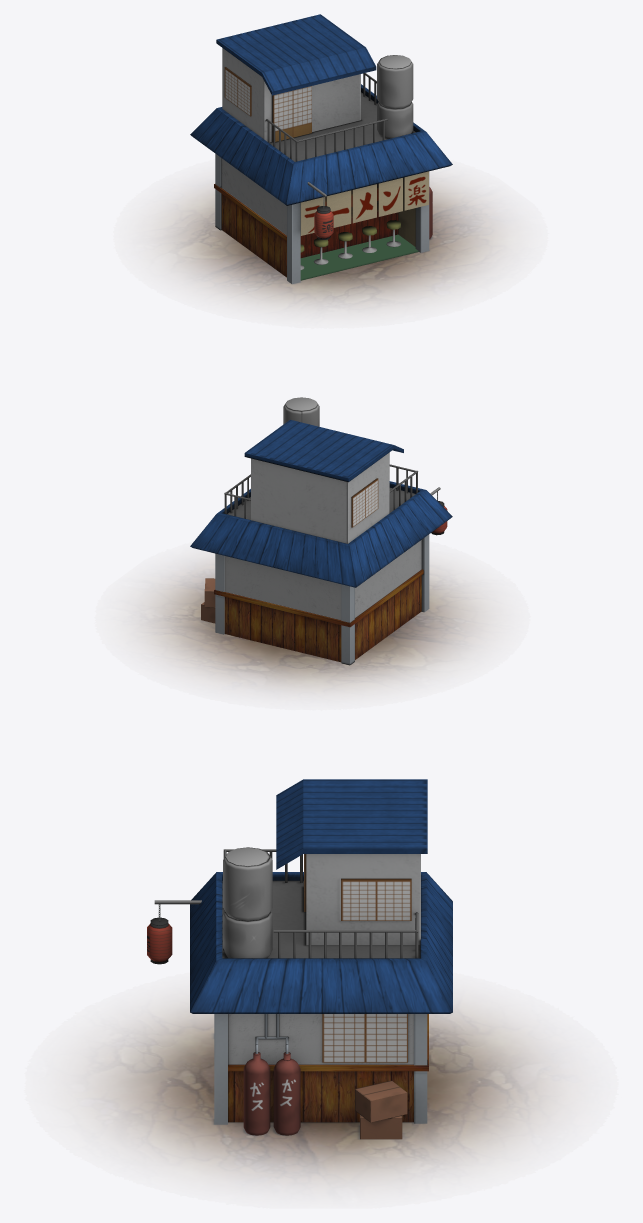
The model's file is naruto_ichiraku_ramen.glb.
3 views of the same model, one above another, from view 1: azimuth 30°, elevation 25°; view 2: azimuth 150°, elevation 25°; view 3: azimuth 270°, elevation 25° (orthographic). The views are drawn at different scales.
Parts seen in each view (by area): view 1: pCylinder49; view 2: pCylinder49; view 3: pCylinder49.
Boxes of the visible parts, <box> form: pCylinder49: <box>161,14,499,307</box>; pCylinder49: <box>143,397,481,689</box>; pCylinder49: <box>90,779,552,1182</box>.
Bounding box in the file's own units: 32.21 × 14.77 × 32.21.
Materials: 1 (1 with a texture image).
